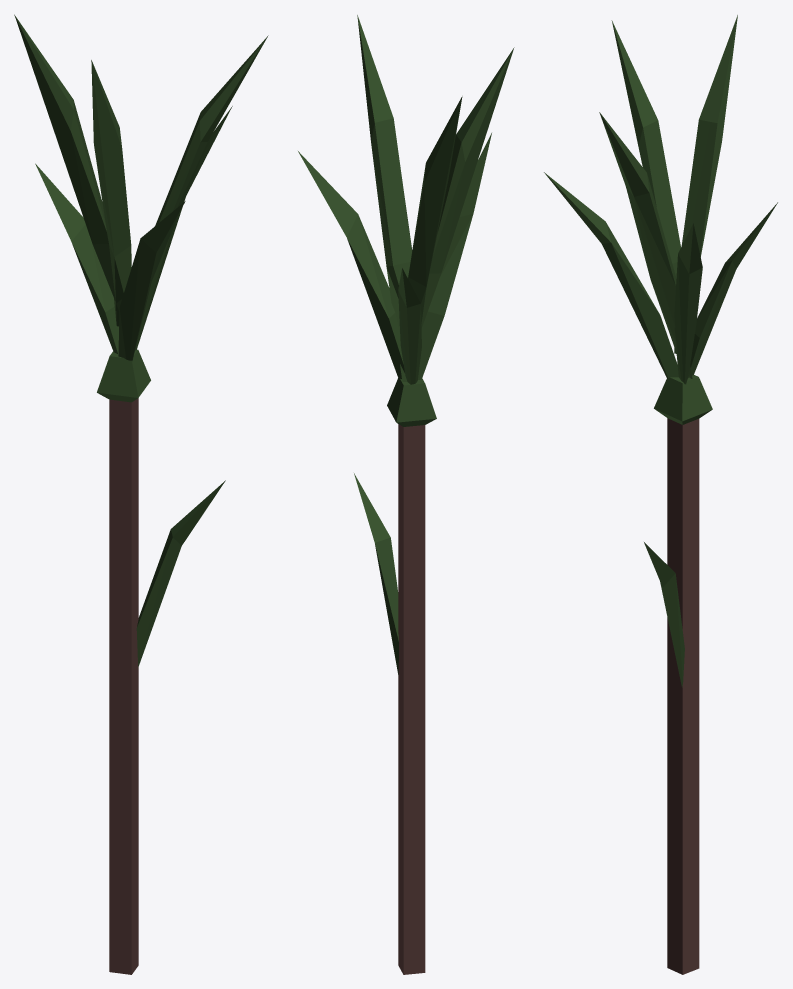
Rendered from SM_Env_SugarCane_01.glb.
3 views of the same model, side by side, from view 1: azimuth 30°, elevation 25°; view 2: azimuth 150°, elevation 25°; view 3: azimuth 270°, elevation 25° (orthographic). The views are drawn at different scales.
Visible parts, largest first — view 1: SM_Env_SugarCane_01; view 2: SM_Env_SugarCane_01; view 3: SM_Env_SugarCane_01.
Part boxes in pixels (x1,y1,x2,y2): SM_Env_SugarCane_01: (14, 14, 268, 974); SM_Env_SugarCane_01: (298, 15, 514, 974); SM_Env_SugarCane_01: (544, 15, 777, 974).
Bounding box in the file's own units: 0.00458 × 0.0213 × 0.00497.
